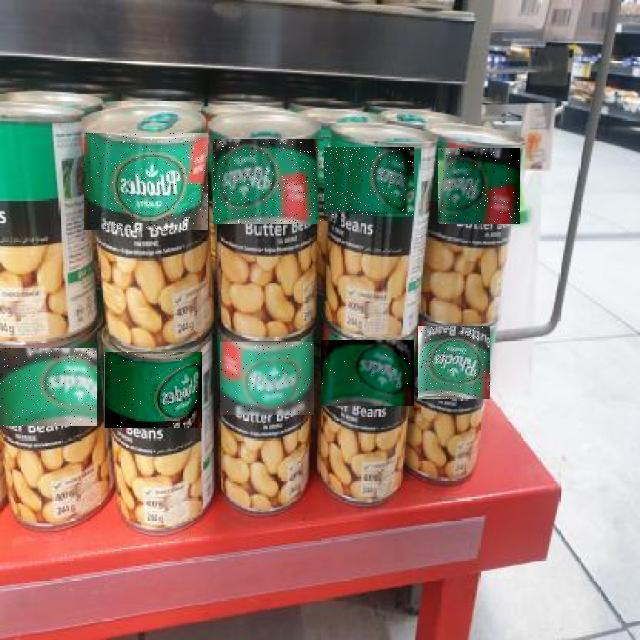Beans: (84, 133, 208, 230), (214, 139, 322, 224), (0, 348, 97, 426), (104, 352, 202, 428), (220, 342, 314, 415), (438, 148, 520, 224), (321, 340, 414, 406), (324, 148, 414, 216), (418, 326, 490, 399)
